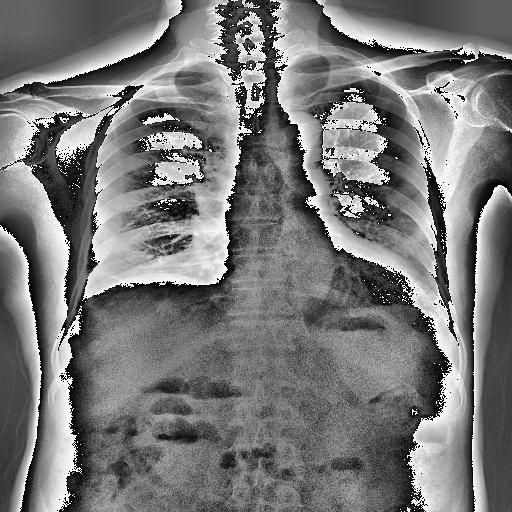0- Aortic enlargement: (266, 108, 324, 168), (272, 110, 324, 162), (272, 112, 322, 156)
13- Pulmonary fibrosis: (98, 269, 122, 282)
3- Cardiomegaly: (220, 247, 423, 314), (212, 256, 428, 310), (216, 257, 432, 303)
